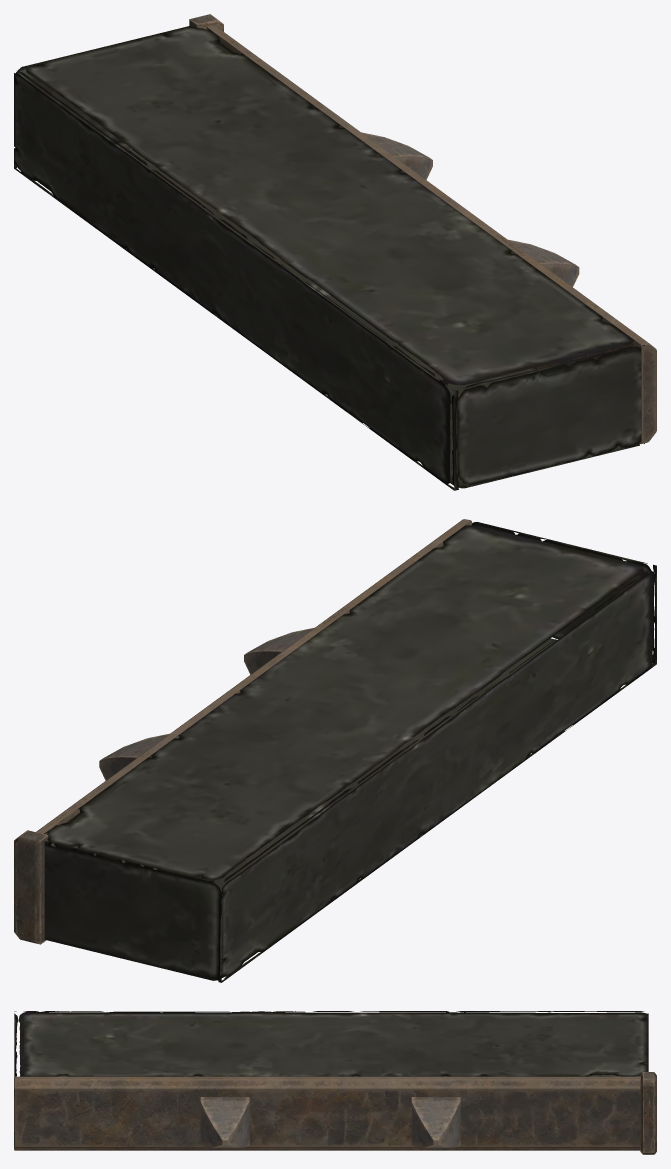
3 views of the same model, one above another, from view 1: azimuth 30°, elevation 25°; view 2: azimuth 150°, elevation 25°; view 3: azimuth 270°, elevation 25° (orthographic). The views are drawn at different scales.
Visible parts, largest first — view 1: SM_Dowdun_Wall_Trim_4x1_02_LOD0; view 2: SM_Dowdun_Wall_Trim_4x1_02_LOD0; view 3: SM_Dowdun_Wall_Trim_4x1_02_LOD0.
Part boxes in pixels (box(x1,y1,x2,y2)): SM_Dowdun_Wall_Trim_4x1_02_LOD0: box(14, 14, 656, 490); SM_Dowdun_Wall_Trim_4x1_02_LOD0: box(14, 519, 656, 982); SM_Dowdun_Wall_Trim_4x1_02_LOD0: box(14, 1011, 656, 1154).
Bounding box in the file's own units: 1.41 × 0.5268 × 4.05.
Materials: 2 (2 with a texture image).
